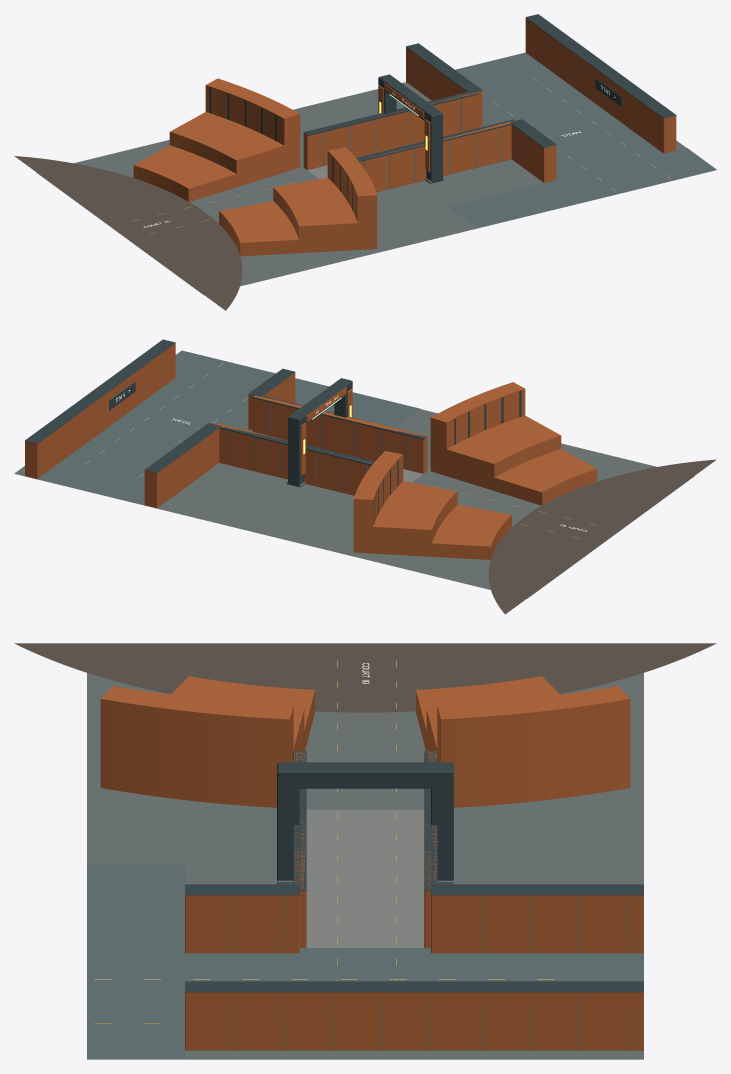
Rendered from g3-titan-lane-junction.glb.
3 views of the same model, one above another, from view 1: azimuth 30°, elevation 25°; view 2: azimuth 150°, elevation 25°; view 3: azimuth 270°, elevation 25° (orthographic). The views are drawn at different scales.
Visible parts, largest first — view 1: Yard base at original zero datum, C3 exact eastern fight floor, C3 stepped terrace with 0.22 rad cut.001, Titan lane slab, C3 stepped terrace with 0.22 rad cut, Plaza only · cropped threshold, Titan lane wall.002, G3 passage side wall, G3 passage side wall.001, Titan lane wall cap.002, Titan lane wall, Titan lane wall.001 (+8 smaller); view 2: Yard base at original zero datum, C3 exact eastern fight floor, C3 stepped terrace with 0.22 rad cut, Titan lane slab, C3 stepped terrace with 0.22 rad cut.001, G3 passage side wall.001, Titan lane wall.002, Plaza only · cropped threshold, G3 passage side wall, Titan lane wall, Titan lane wall cap.002, G3 crown (+8 smaller); view 3: Yard base at original zero datum, C3 exact eastern fight floor, Titan lane wall.002, C3 stepped terrace with 0.22 rad cut, C3 stepped terrace with 0.22 rad cut.001, Plaza only · cropped threshold, G3 passage slab, Titan lane slab, Titan lane wall, Titan lane wall.001, Titan lane wall cap.002, G3 crown (+9 smaller).
Part boxes in pixels (x1,y1,x2,y2): Yard base at original zero datum: (36, 82, 716, 294); C3 exact eastern fight floor: (14, 156, 242, 310); C3 stepped terrace with 0.22 rad cut.001: (133, 78, 300, 201); Titan lane slab: (455, 52, 663, 179); C3 stepped terrace with 0.22 rad cut: (219, 147, 377, 256); Plaza only · cropped threshold: (448, 148, 716, 227); Titan lane wall.002: (525, 18, 676, 153); G3 passage side wall: (303, 92, 478, 170); G3 passage side wall.001: (358, 120, 515, 191); Titan lane wall cap.002: (525, 14, 676, 118); Titan lane wall: (406, 47, 482, 126); Titan lane wall.001: (511, 124, 556, 182); Yard base at original zero datum: (14, 409, 694, 598); C3 exact eastern fight floor: (488, 459, 716, 614); C3 stepped terrace with 0.22 rad cut: (430, 382, 597, 505); Titan lane slab: (38, 378, 252, 504); C3 stepped terrace with 0.22 rad cut.001: (353, 451, 511, 559); G3 passage side wall.001: (252, 395, 427, 473); Titan lane wall.002: (25, 343, 175, 479); Plaza only · cropped threshold: (175, 350, 420, 427); G3 passage side wall: (215, 423, 371, 495); Titan lane wall: (144, 428, 219, 508); Titan lane wall cap.002: (25, 339, 175, 443); G3 crown: (288, 378, 352, 429); Yard base at original zero datum: (87, 673, 643, 1059); C3 exact eastern fight floor: (14, 643, 716, 712); Titan lane wall.002: (185, 992, 643, 1050); C3 stepped terrace with 0.22 rad cut: (100, 676, 314, 807); C3 stepped terrace with 0.22 rad cut.001: (416, 676, 630, 807); Plaza only · cropped threshold: (87, 865, 185, 1058); G3 passage slab: (306, 809, 424, 947); Titan lane slab: (185, 948, 643, 981); Titan lane wall: (431, 895, 643, 953); Titan lane wall.001: (185, 895, 299, 953); Titan lane wall cap.002: (185, 981, 643, 992); G3 crown: (277, 762, 453, 788).
Bounding box in the file's own units: 60 × 7.6 × 42.9.
